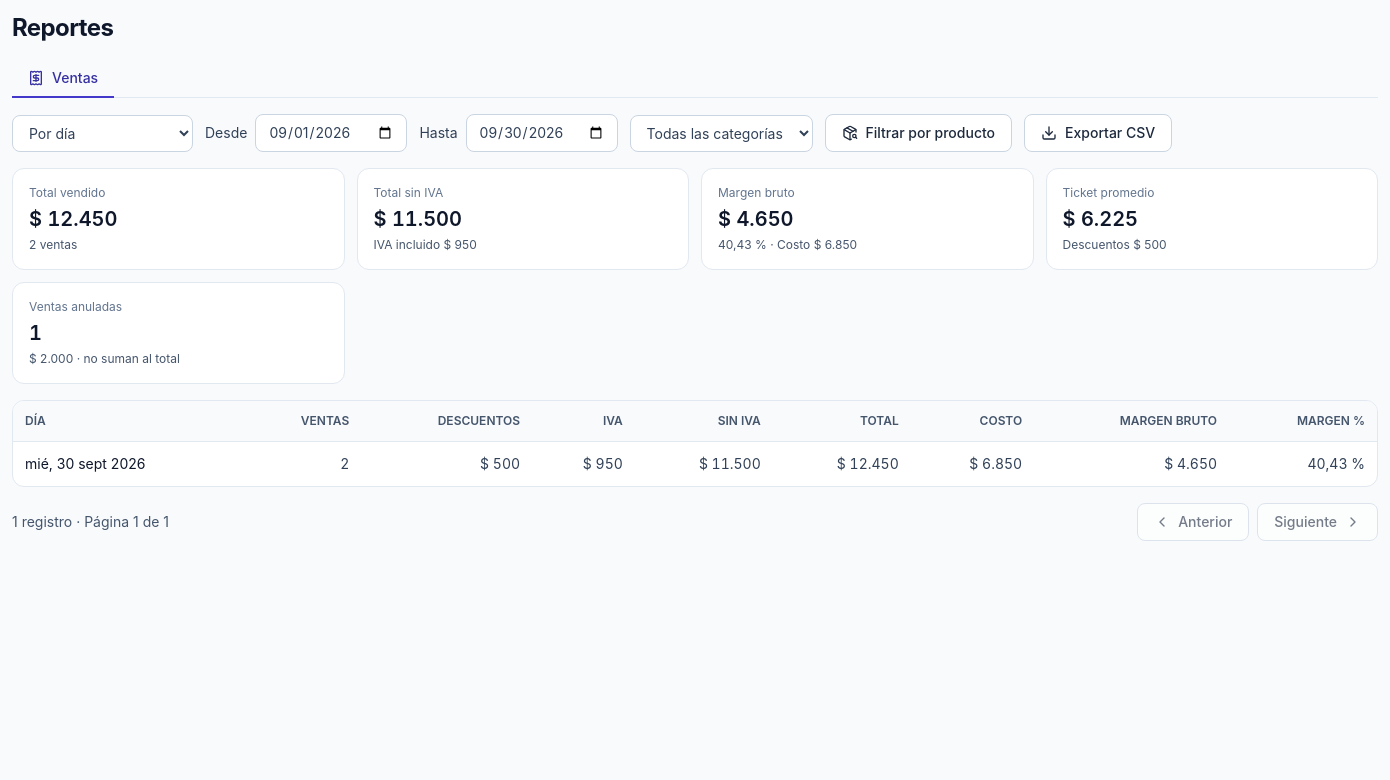
ReportsPage › by payment method drops the line filters and the cost columns
Check: the column heading "Costo" is shown, box [911, 401, 1034, 442]
Select "Por método de pago" in the 1st dropdown named "Agrupar por" at (102, 134), box [12, 115, 193, 152]
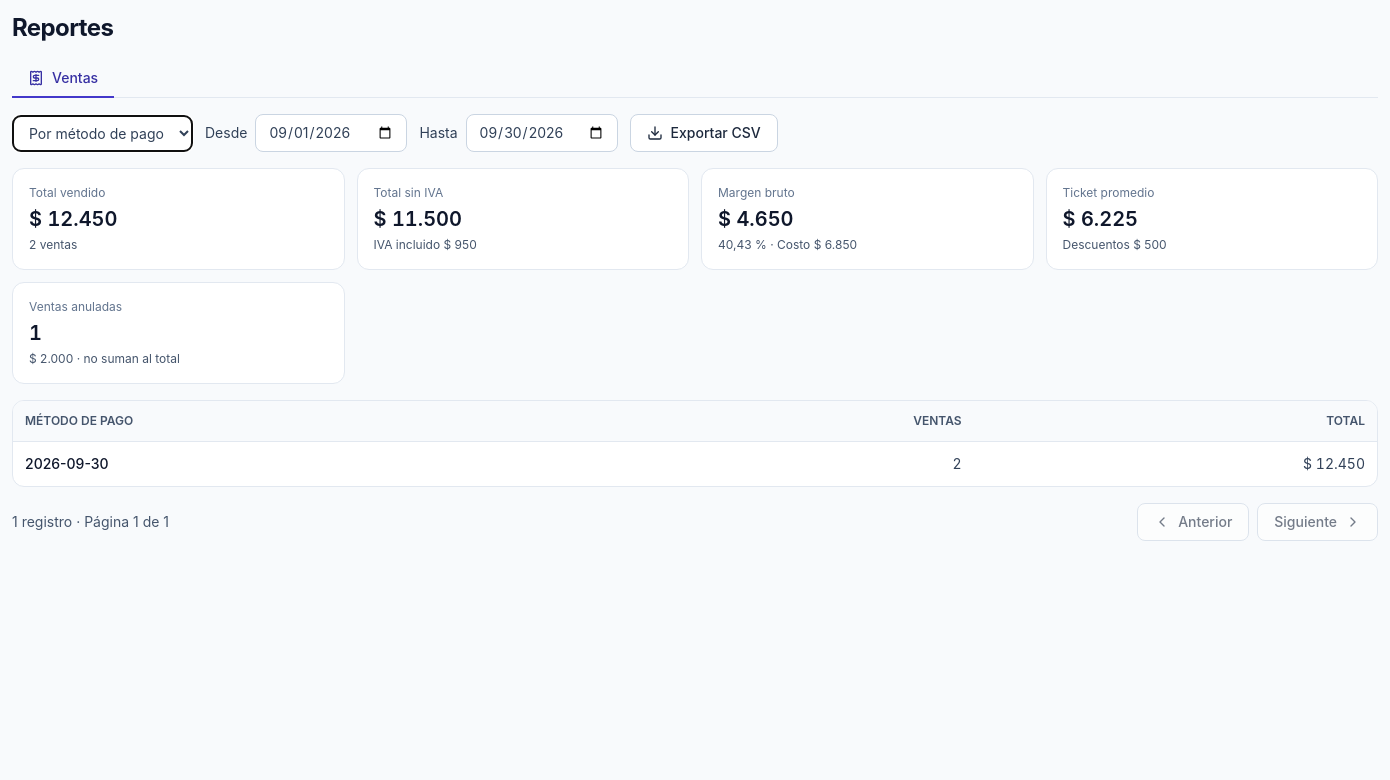
Check: the dropdown labelled "Categoría" is not shown
Check: the button "Filtrar por producto" is gone
Check: the column heading "Método de pago" is shown, box [13, 401, 634, 442]
